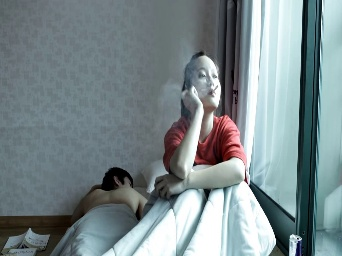smoke: (211, 82, 219, 94)
